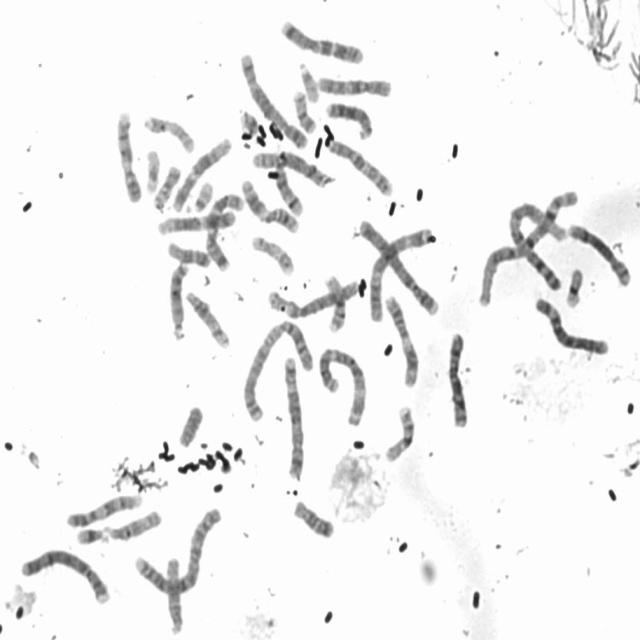A1: (471, 183, 580, 308), (504, 194, 570, 294)
A2: (130, 501, 224, 596), (239, 314, 316, 424)
A3: (363, 222, 438, 323), (315, 342, 369, 428)
B4: (360, 218, 440, 322), (18, 543, 112, 606)
B5: (238, 46, 310, 150), (279, 351, 305, 481)
C10: (323, 133, 395, 198), (313, 71, 394, 99)
C11: (237, 174, 300, 235), (382, 290, 421, 388)
C12: (170, 131, 236, 214), (153, 206, 239, 236)
C6: (531, 292, 611, 357), (265, 274, 361, 319)
C7: (277, 15, 367, 66), (202, 190, 245, 273)
C8: (564, 218, 632, 288), (248, 145, 335, 190)
C9: (63, 489, 144, 529), (112, 105, 144, 204)
D13: (322, 96, 374, 142), (166, 258, 191, 342)
D14: (252, 146, 306, 218), (182, 286, 232, 350)
D15: (101, 504, 163, 543), (161, 551, 186, 636)
E16: (381, 401, 417, 464), (321, 270, 348, 332)
E17: (141, 110, 197, 155), (248, 230, 296, 278)
E18: (290, 495, 336, 540), (164, 237, 213, 269)
F19: (562, 263, 586, 310), (142, 144, 162, 196)
F20: (150, 160, 183, 212), (290, 85, 318, 134)
G21: (72, 521, 110, 547), (237, 106, 258, 142)
G22: (294, 57, 320, 104), (188, 176, 214, 213)
X: (444, 326, 471, 430)
Y: (175, 400, 205, 449)
